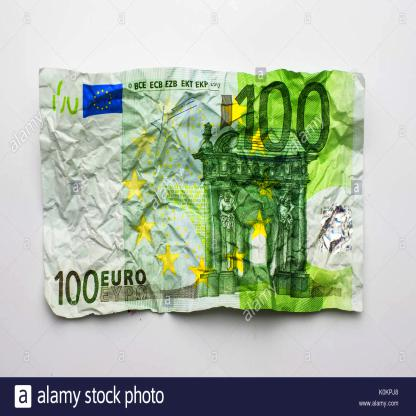euro_banknote: (40, 69, 366, 319)
